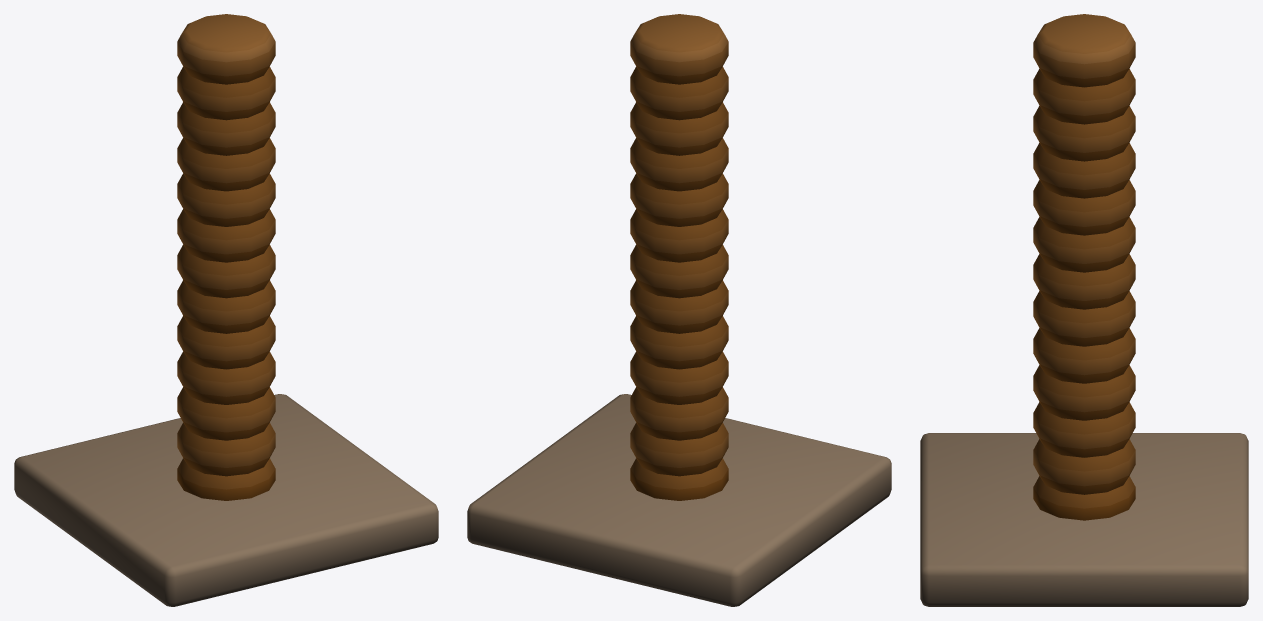
File: scratching.fbx
3 views of the same model, side by side, from view 1: azimuth 30°, elevation 25°; view 2: azimuth 150°, elevation 25°; view 3: azimuth 270°, elevation 25° (orthographic). The views are drawn at different scales.
Visible parts, largest first — view 1: skratching; view 2: skratching; view 3: skratching.
Part boxes in pixels (x1,y1,x2,y2): skratching: [14, 14, 438, 606]; skratching: [467, 14, 891, 606]; skratching: [920, 14, 1248, 606].
Bounding box in the file's own units: 2.87 × 4.92 × 2.87.
